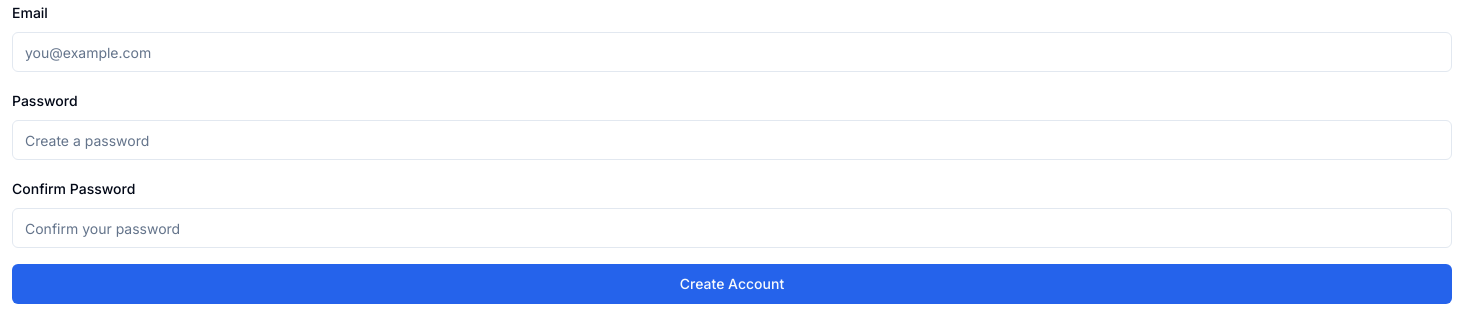
SignupForm › shows success message after signup
The image size is (1464, 321).
Type "test@test.com" into the field with placeholder "you@example.com".
click(732, 52); type("test@test.com")  # box [12, 32, 1452, 72]
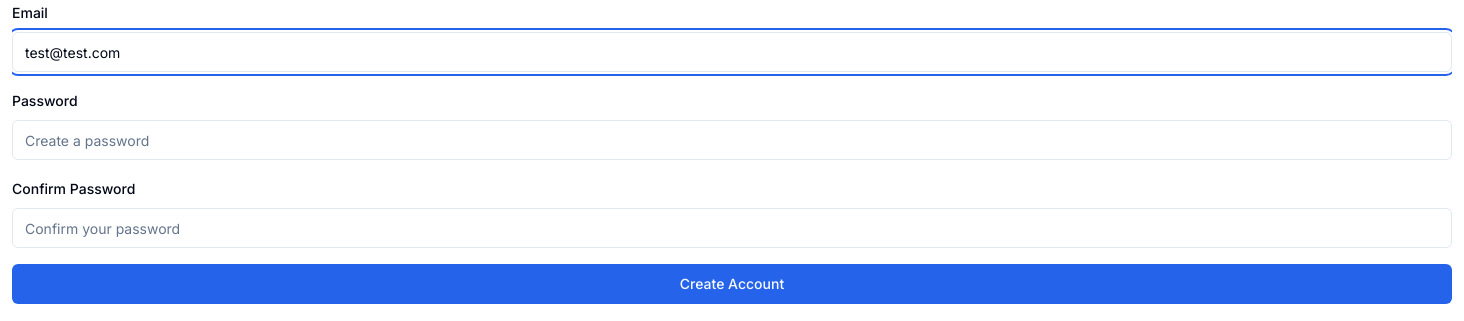
Type "Password1" into the password field with placeholder "Create a password".
click(732, 140); type("Password1")  # box [12, 120, 1452, 160]
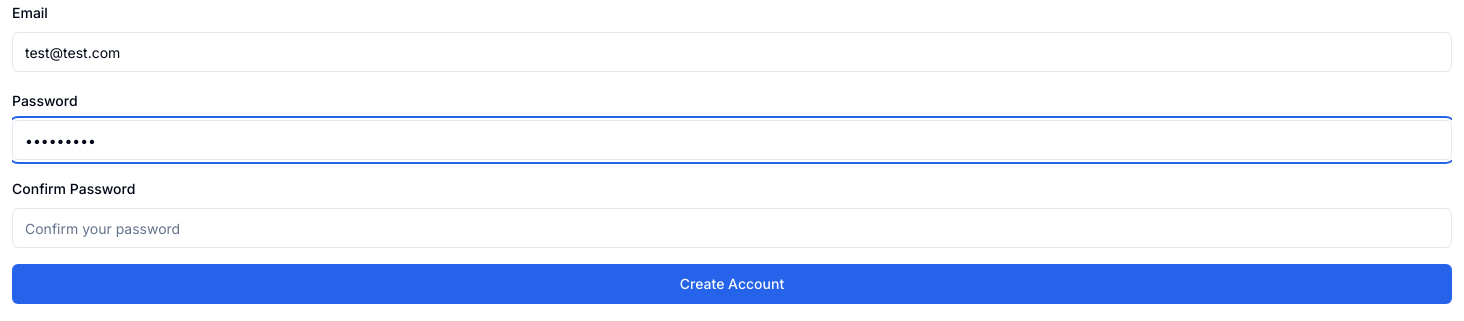
Type "Password1" into the password field with placeholder "Confirm your password".
click(732, 228); type("Password1")  # box [12, 208, 1452, 248]
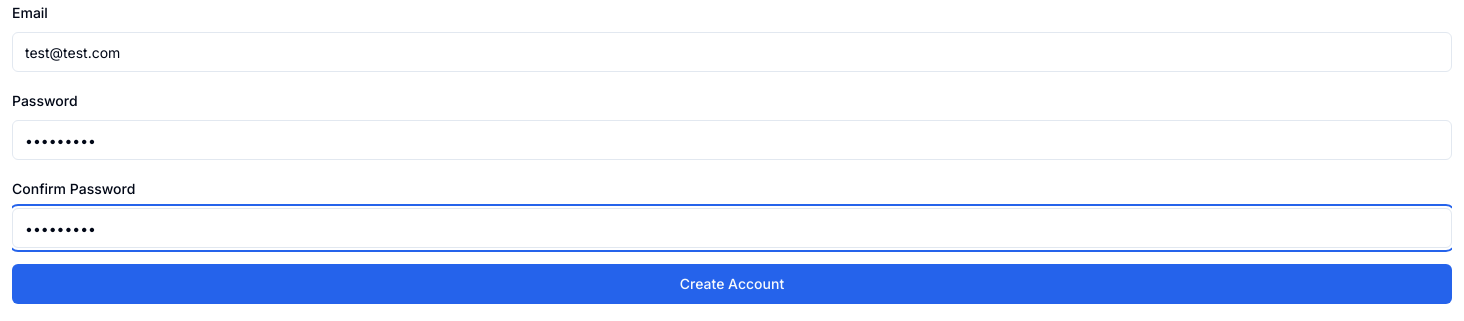
Click the button "Create Account".
click(732, 284)  # box [12, 264, 1452, 304]
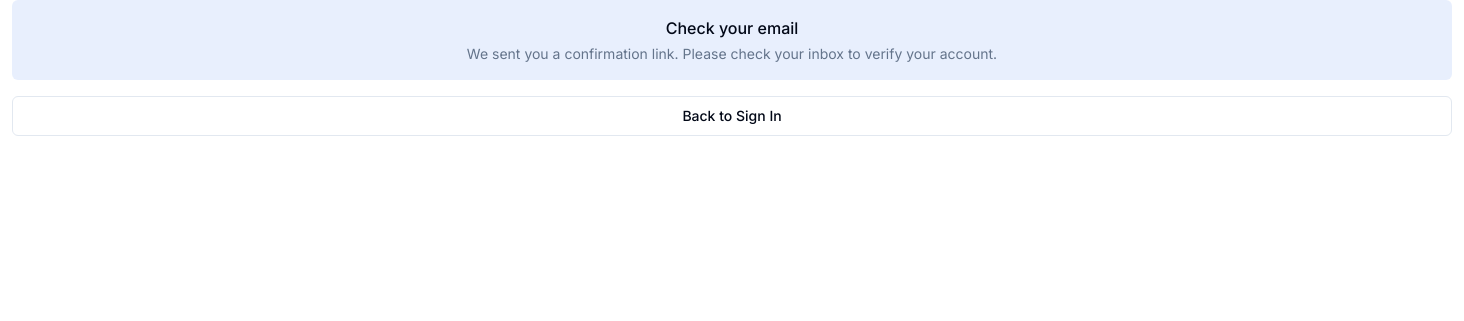
expect the heading "Check your email" is shown: met, box [666, 18, 798, 38]
